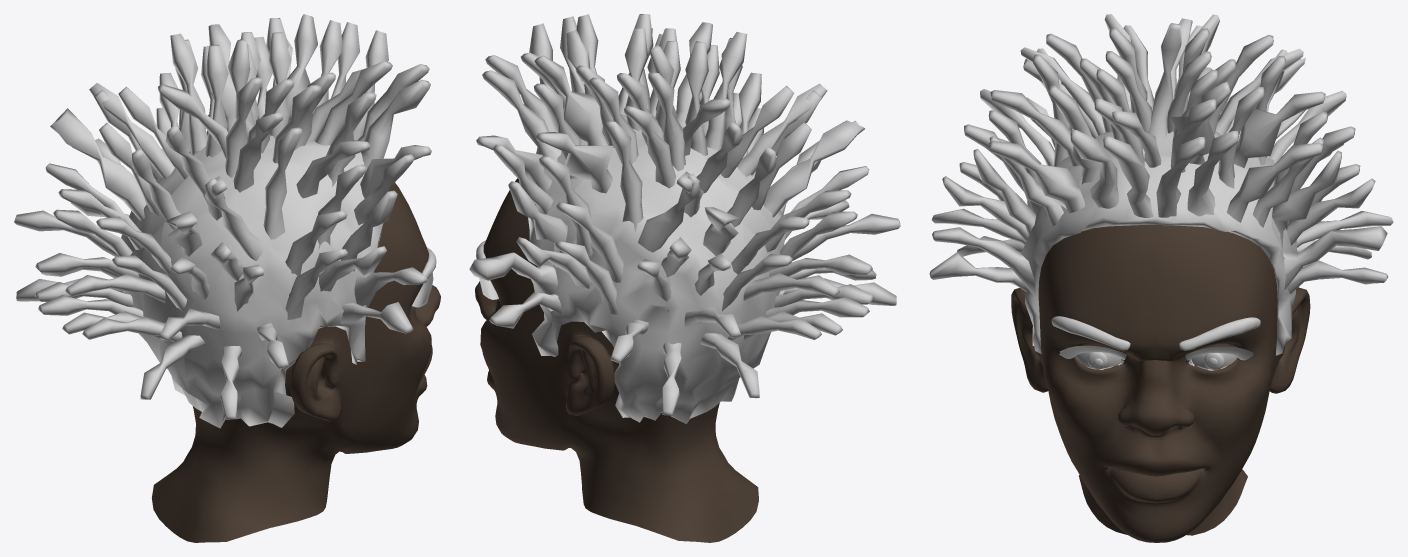
The model's file is ishowspeed.obj.
The picture shows the model from 3 angles, left to right: view 1: azimuth 30°, elevation 25°; view 2: azimuth 150°, elevation 25°; view 3: azimuth 270°, elevation 25°; orthographic projection. The views are drawn at different scales.
Parts seen in each view (by area): view 1: CC_Base_Hair.001, CC_Base_Body; view 2: CC_Base_Hair.001, CC_Base_Body; view 3: CC_Base_Hair.001, CC_Base_Body, Toon_Eyebrows, CC_Base_eyelids.001, CC_Base_Eyeball.
Boxes of the visible parts, box(x1,y1,x2,y2) form: CC_Base_Hair.001: box(14, 14, 431, 428); CC_Base_Body: box(152, 183, 440, 542); CC_Base_Hair.001: box(469, 14, 900, 423); CC_Base_Body: box(475, 178, 758, 542); CC_Base_Hair.001: box(929, 14, 1393, 355); CC_Base_Body: box(1011, 225, 1310, 542); Toon_Eyebrows: box(1051, 316, 1260, 350); CC_Base_eyelids.001: box(1059, 345, 1253, 360); CC_Base_Eyeball: box(1075, 352, 1237, 368).
Size of the model in its own units: 0.2625 by 0.3101 by 0.2656.
